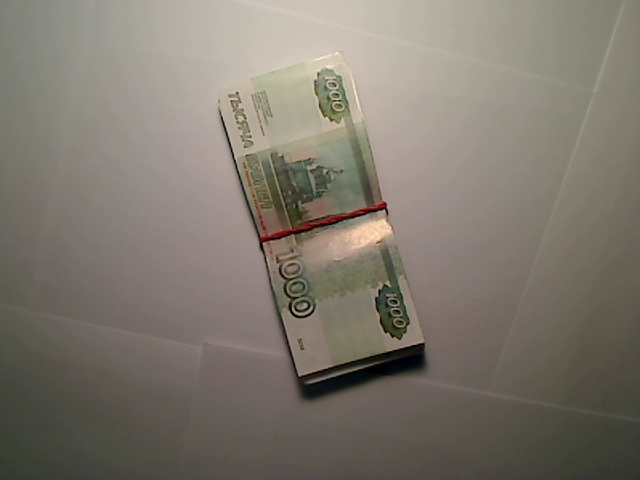banknotes: (206, 46, 431, 399)
